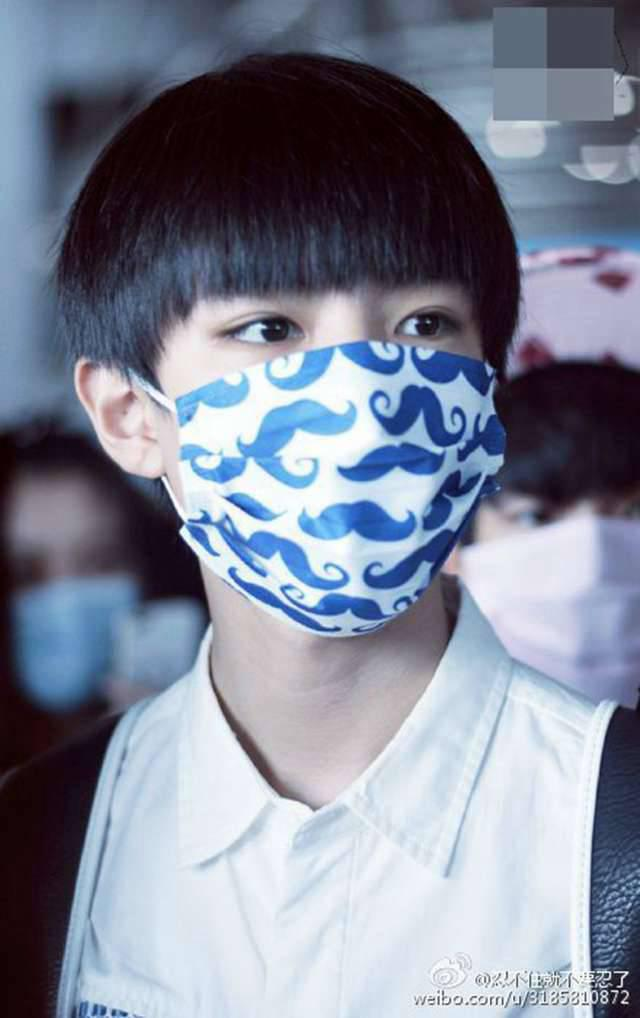OK: (157, 252, 535, 630), (487, 481, 640, 719), (1, 511, 139, 704)
